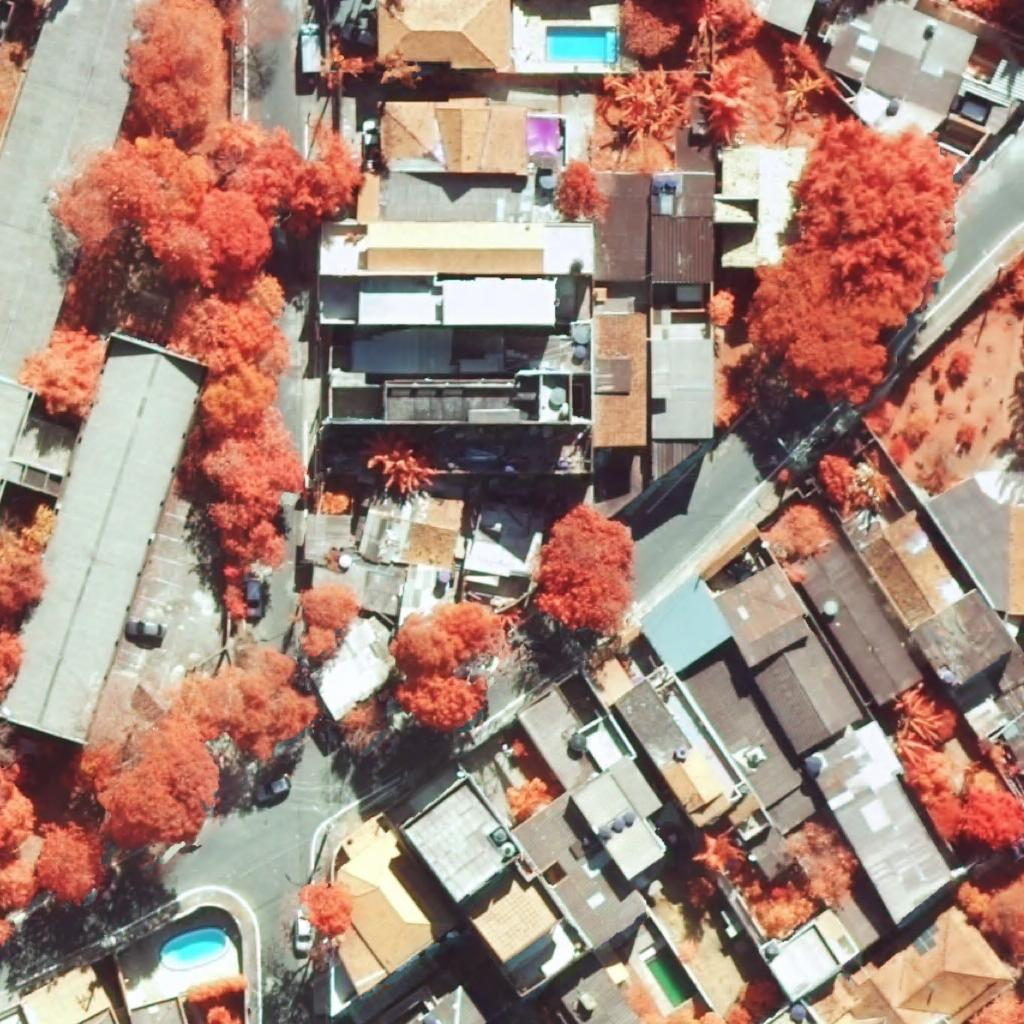pool: (644, 945, 699, 1009), (546, 26, 617, 63), (163, 930, 226, 965)
